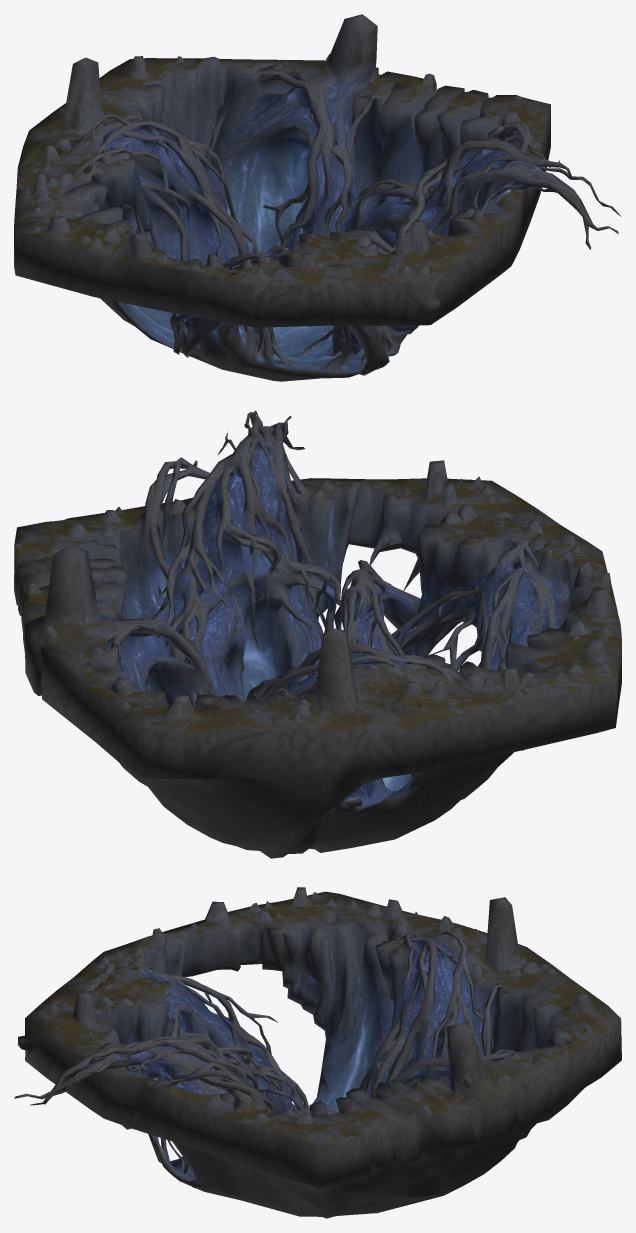
The model's file is rift.glb.
3 views of the same model, one above another, from view 1: azimuth 30°, elevation 25°; view 2: azimuth 150°, elevation 25°; view 3: azimuth 270°, elevation 25° (orthographic). The views are drawn at different scales.
Parts seen in each view (by area): view 1: Mesh_0; view 2: Mesh_0; view 3: Mesh_0.
Boxes of the visible parts, left/top/right/bottom form: Mesh_0: left=14, top=14, right=621, bottom=381; Mesh_0: left=14, top=410, right=621, bottom=858; Mesh_0: left=14, top=887, right=621, bottom=1218.
Size of the model in its own units: 1.89 by 0.9108 by 1.9.
Materials: 1 (1 with a texture image).
